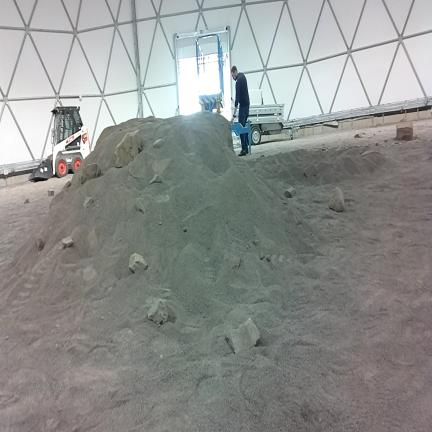Rock: (226, 318, 259, 353), (115, 130, 140, 167), (148, 299, 176, 324), (81, 163, 101, 184), (329, 187, 344, 212), (129, 253, 147, 272), (397, 122, 413, 140), (304, 165, 318, 177), (229, 256, 240, 270), (62, 236, 74, 248), (136, 198, 146, 212), (292, 213, 302, 226), (285, 187, 295, 198), (150, 175, 162, 184), (37, 237, 45, 250), (153, 139, 164, 148), (270, 254, 278, 265), (84, 197, 92, 208), (63, 181, 71, 189), (265, 255, 271, 262), (48, 190, 54, 196), (279, 255, 284, 262), (260, 252, 264, 260), (253, 239, 258, 245), (183, 227, 187, 232), (24, 199, 29, 203), (355, 134, 360, 138), (5, 336, 9, 340), (375, 143, 379, 146), (362, 132, 366, 135), (384, 140, 388, 142)
